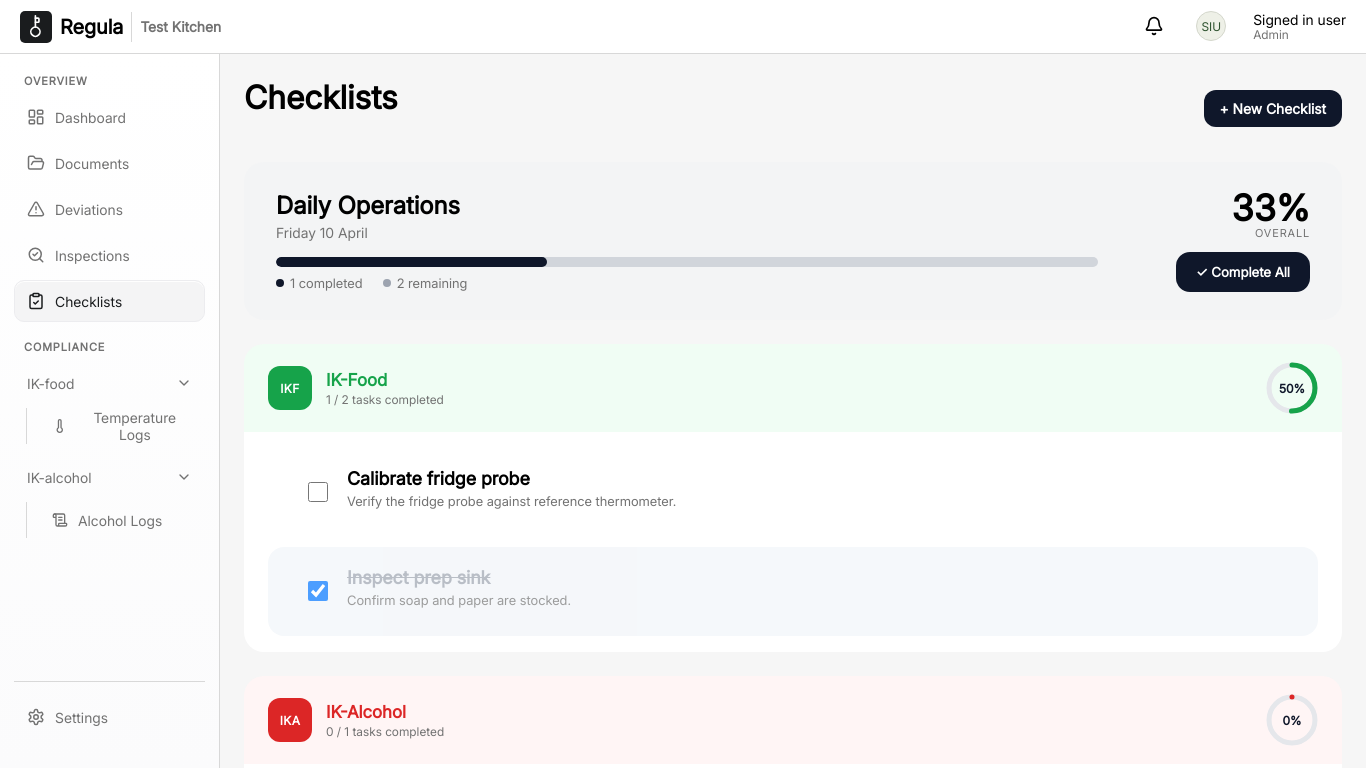
Test: Checklist view › navigates to the checklist builder
What coordinates should you click on to do the following:
click the button "+ New Checklist"
I would click on:
 (1273, 109)
Its box is [1204,90,1342,127].
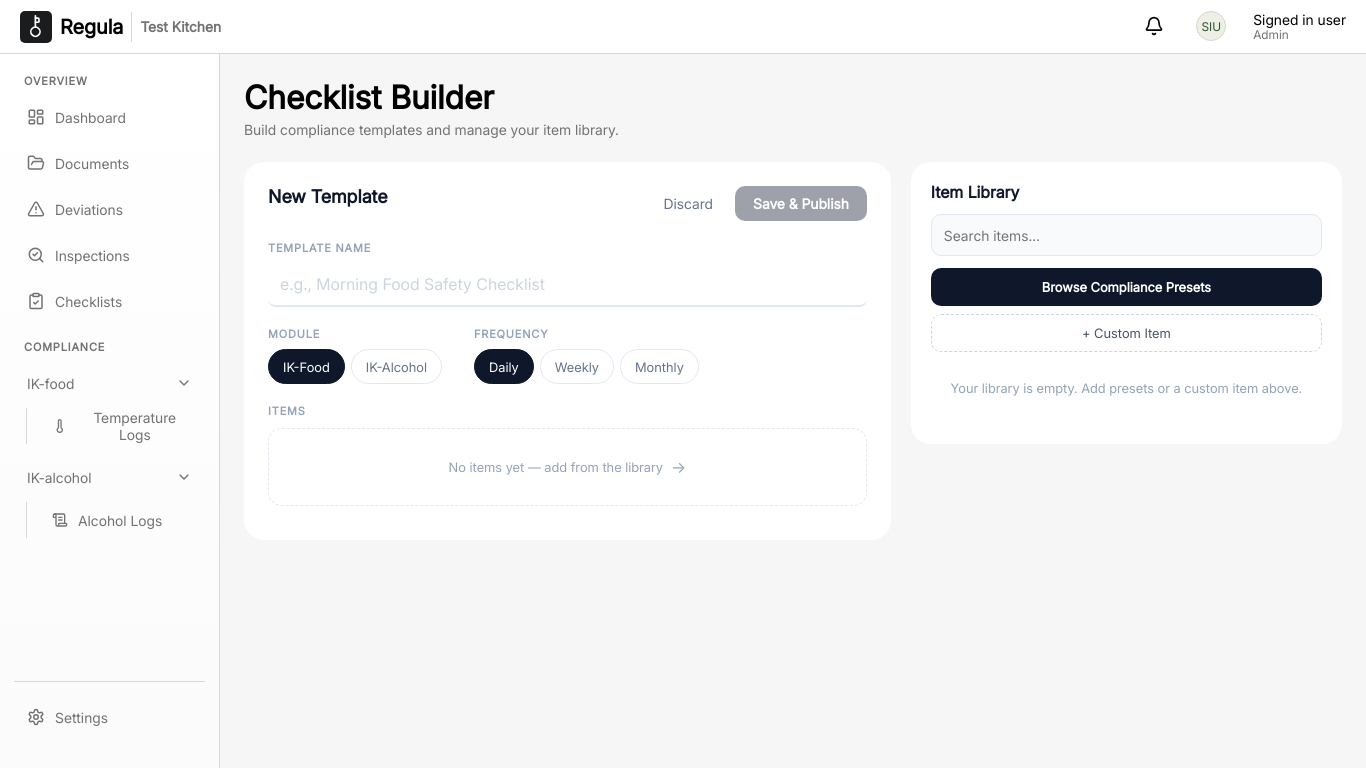
Expected: the heading "Checklist Builder" is shown, [244,78,494,117]
